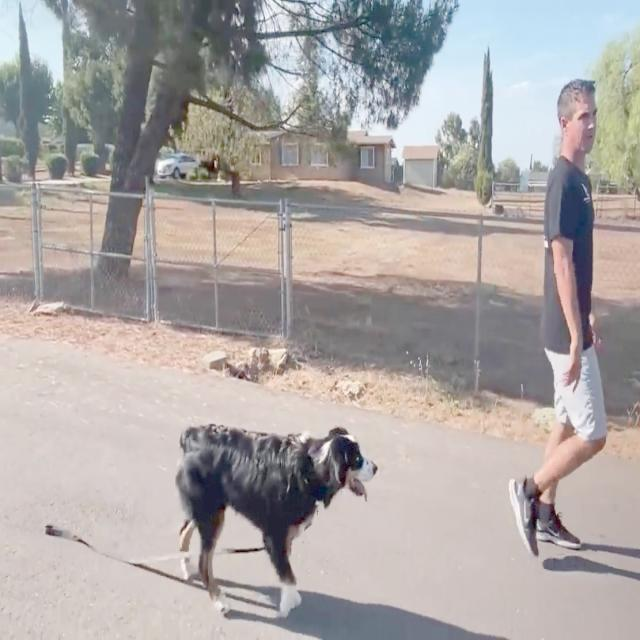Unleashed_Dog: (175, 342, 584, 618)
